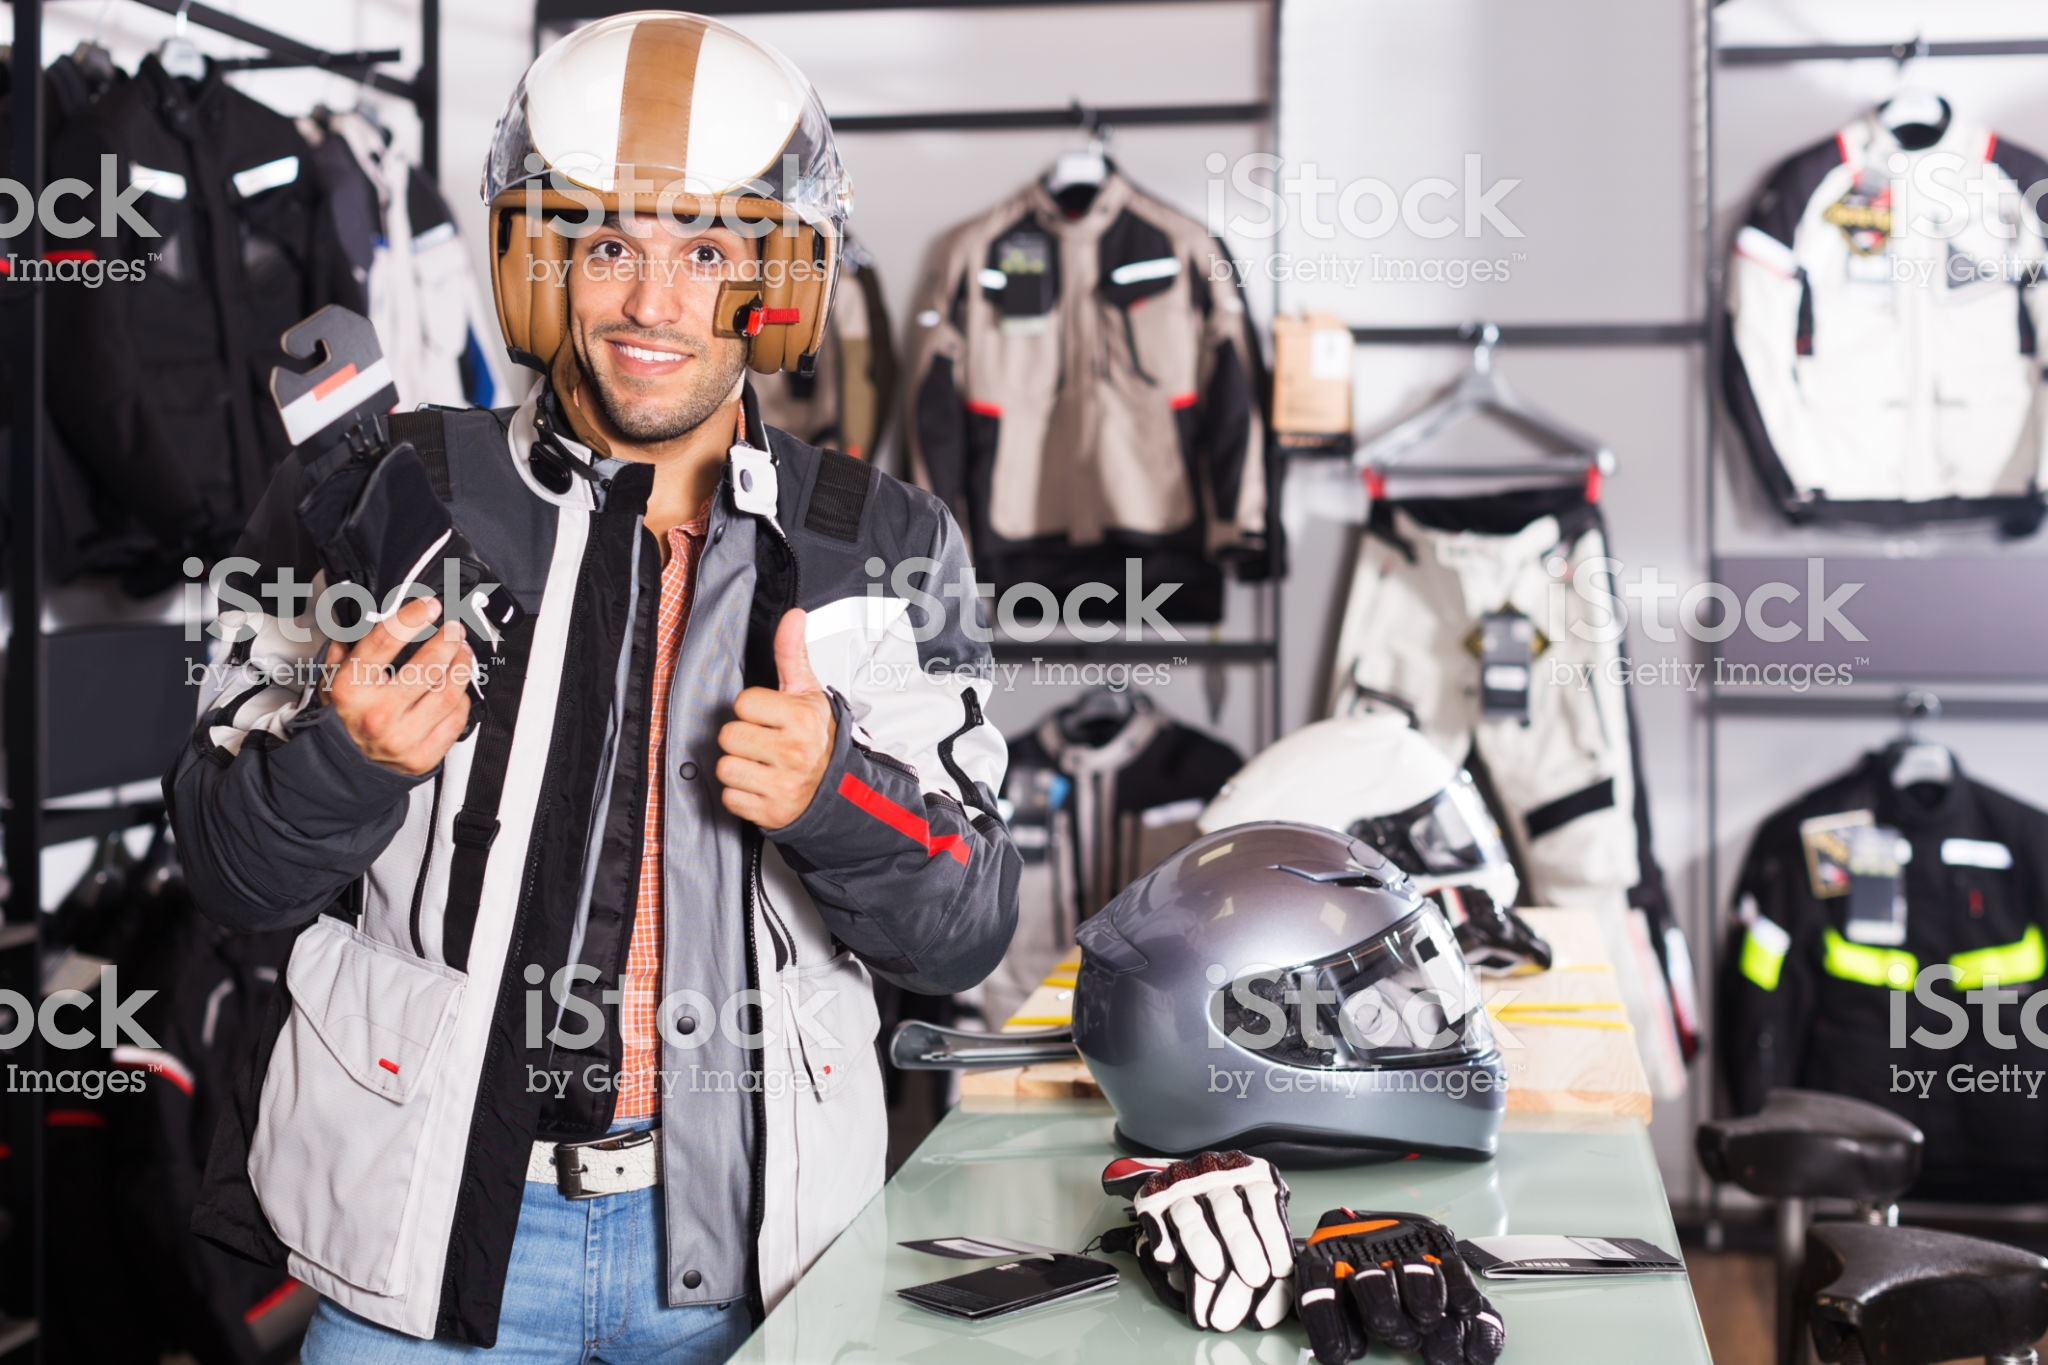helmet: (487, 17, 848, 382)
